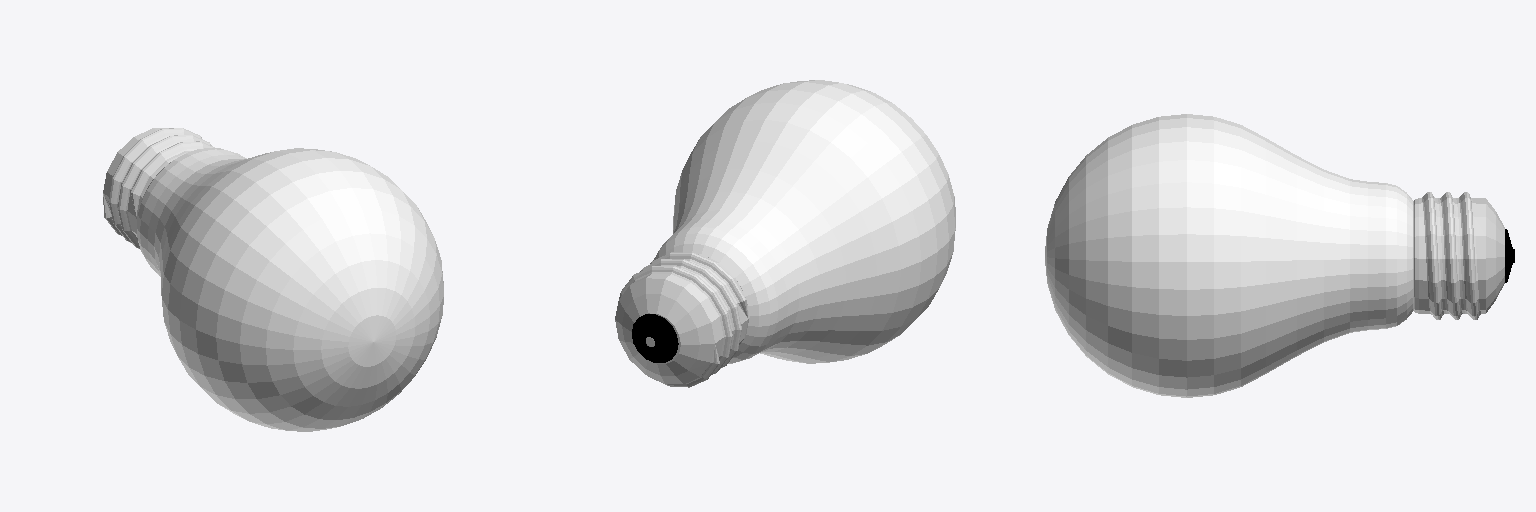
The model's file is incandescent_light_bulb.obj.
The picture shows the model from 3 angles: view 1: azimuth 30°, elevation 25°; view 2: azimuth 150°, elevation 25°; view 3: azimuth 270°, elevation 25°; orthographic projection.
Parts seen in each view (by area): view 1: Object.2, Object.1; view 2: Object.2, Object.1, Object.4; view 3: Object.2, Object.1.
Boxes of the visible parts, x1=… form: Object.2: x1=137, y1=148, x2=443, y2=431; Object.1: x1=103, y1=128, x2=214, y2=249; Object.2: x1=653, y1=80, x2=955, y2=363; Object.1: x1=615, y1=252, x2=749, y2=387; Object.4: x1=632, y1=314, x2=678, y2=362; Object.2: x1=1045, y1=114, x2=1413, y2=397; Object.1: x1=1414, y1=192, x2=1504, y2=319.
Size of the model in its own units: 91.85 by 91.85 by 152.